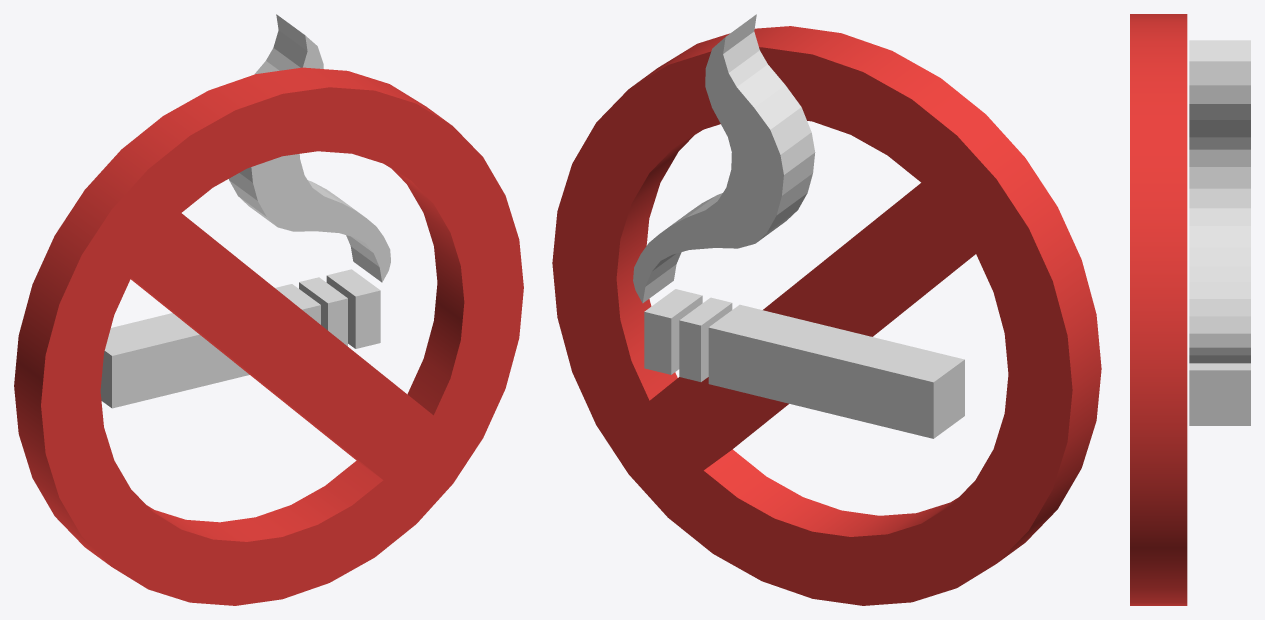
Rendered from no_smoking.gltf.
3 renders of one model, left to right at view 1: azimuth 30°, elevation 25°; view 2: azimuth 150°, elevation 25°; view 3: azimuth 270°, elevation 25°, orthographic. The views are drawn at different scales.
Parts seen in each view (by area): view 1: Circle.2622, Cube.6306; view 2: Circle.2622, Cube.6306; view 3: Circle.2622, Cube.6306.
Boxes of the visible parts, x1,y1,x2,y2 form: Circle.2622: (14,67,523,605); Cube.6306: (100,14,390,408); Circle.2622: (552,26,1101,605); Cube.6306: (633,14,964,438); Circle.2622: (1130,14,1187,605); Cube.6306: (1189,40,1250,425).
Size of the model in its own units: 1.92 by 2.02 by 0.3926.
1 material, 1 textured.
